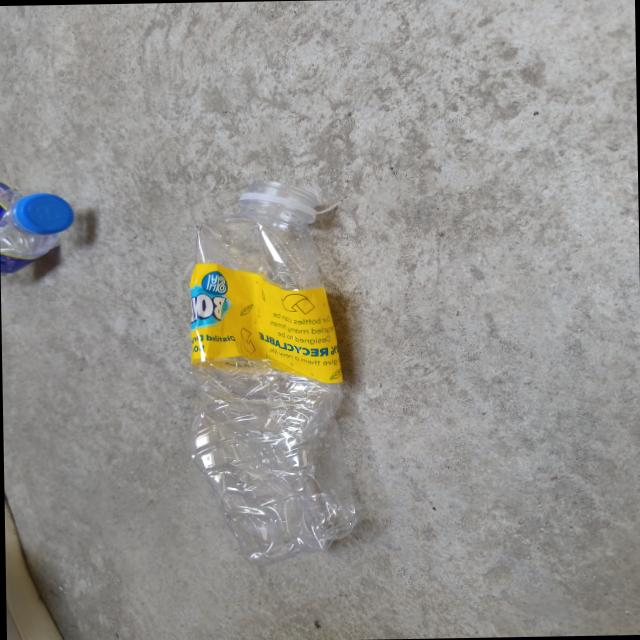Bottle: (190, 181, 357, 565)
